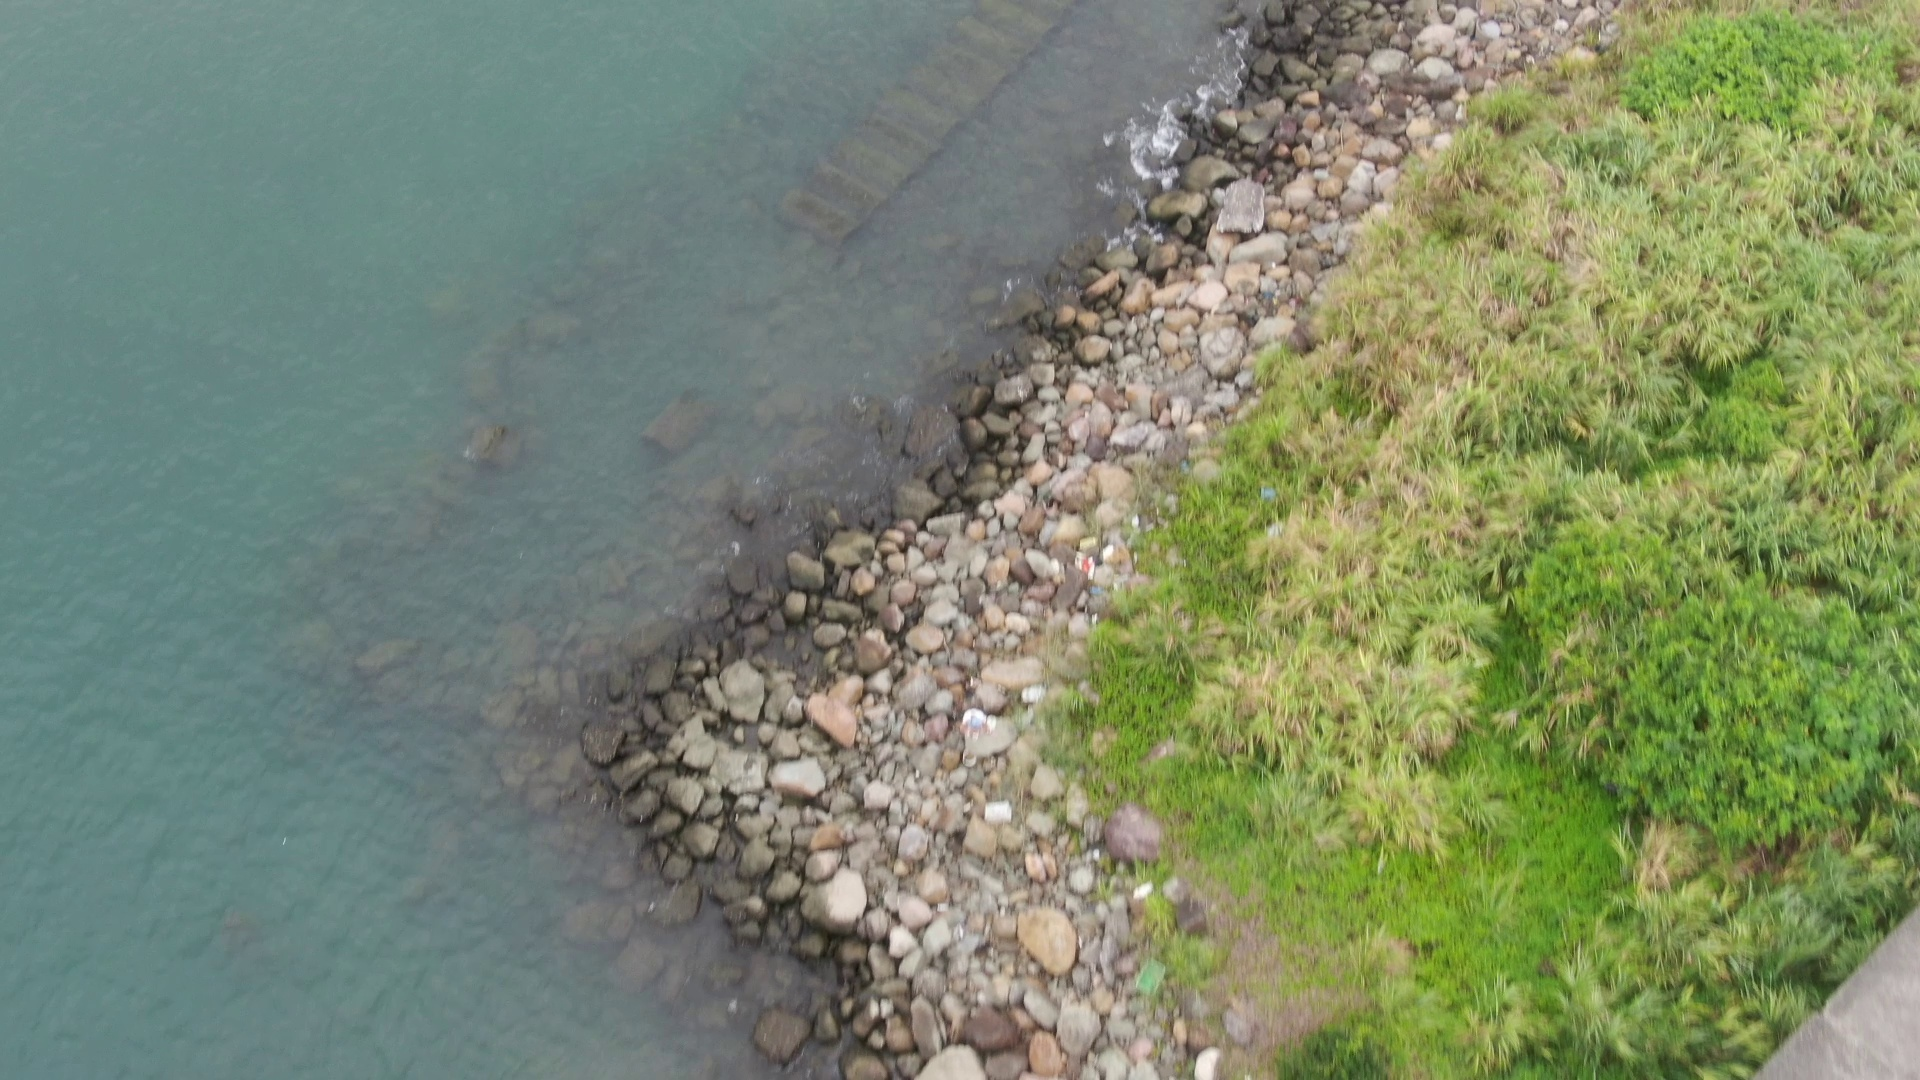garbage: (1131, 940, 1175, 997)
